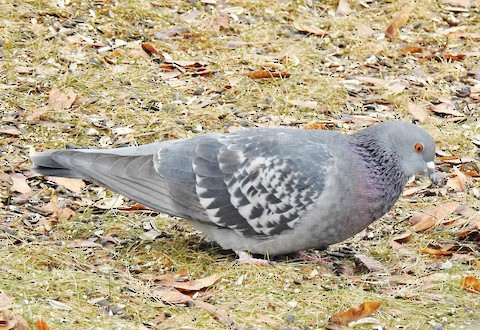pigeon: (24, 104, 452, 273)
